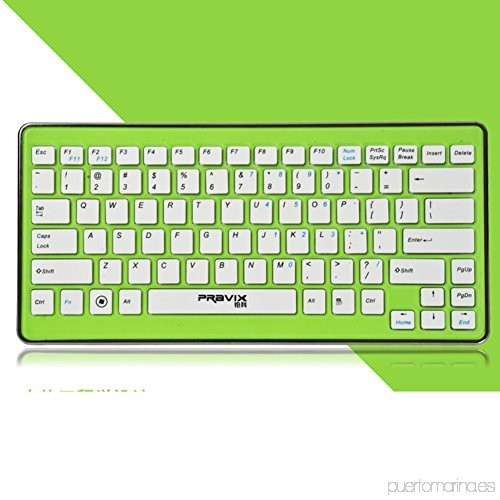Teclado: (13, 118, 496, 353)
